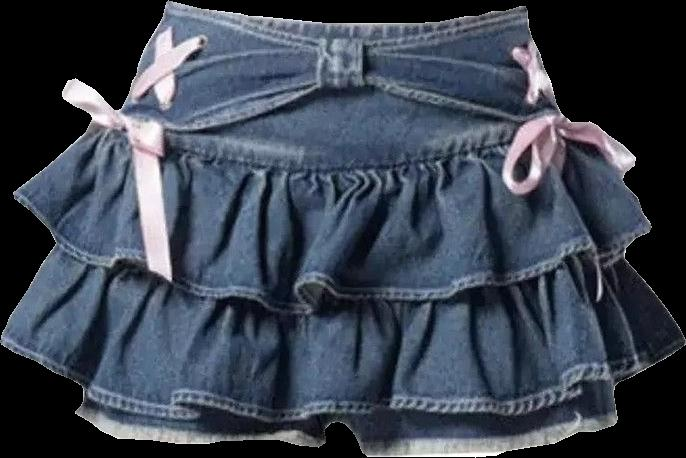Hemline: (12, 190, 653, 315), (0, 338, 685, 424), (76, 407, 617, 457), (117, 83, 562, 132)
Waistline: (109, 113, 565, 176), (168, 1, 526, 45)
